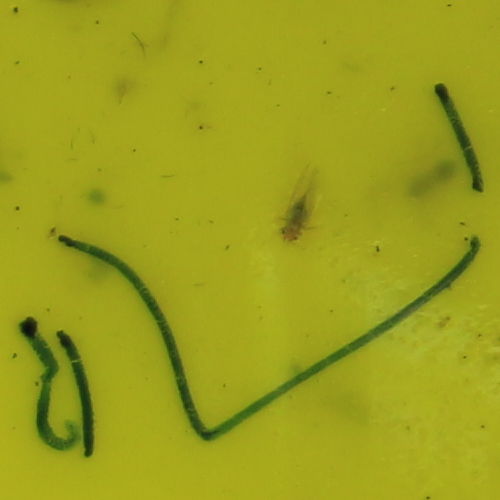psylla: (273, 191, 319, 243)
